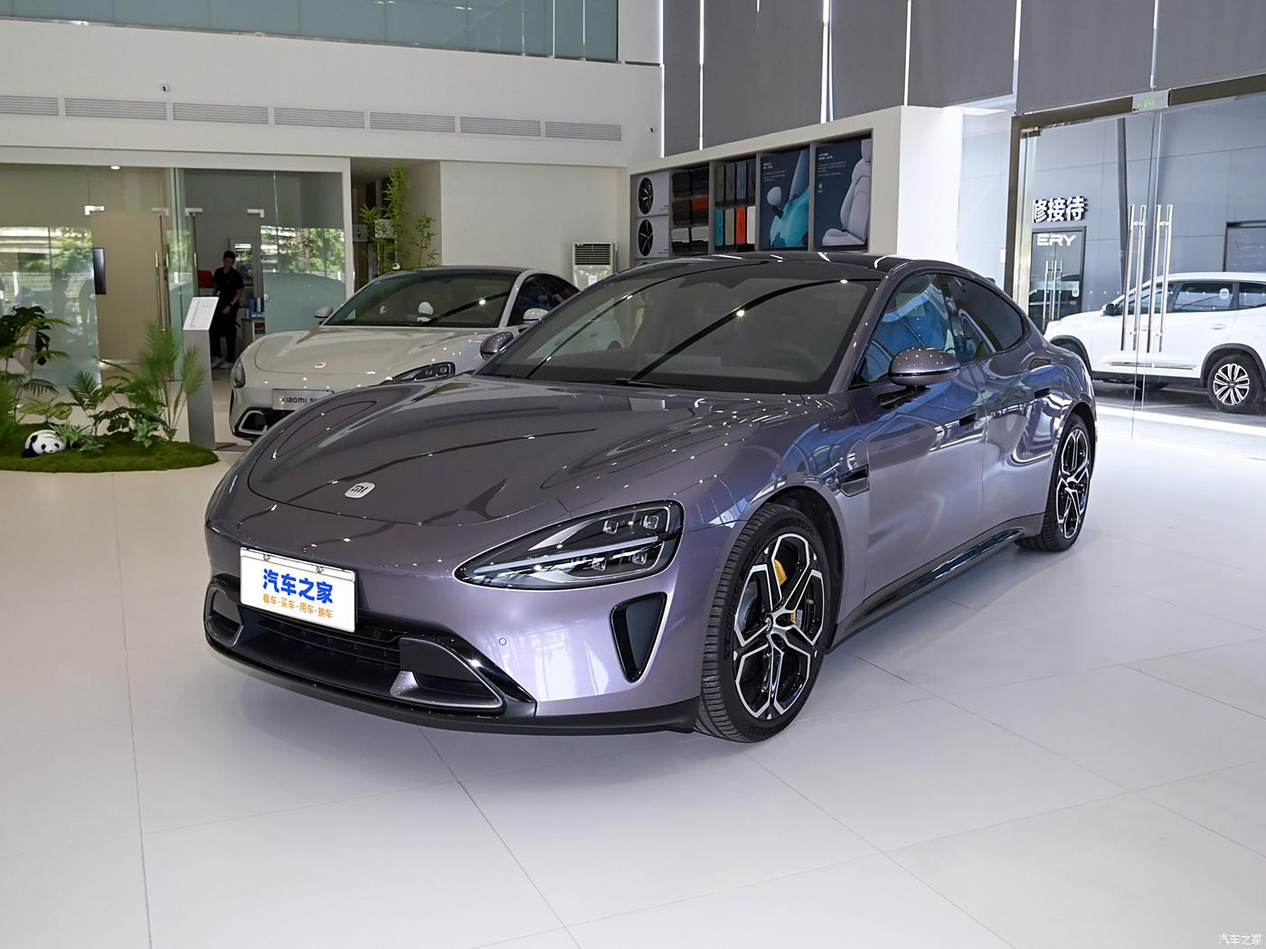XIAOMI: (344, 482, 375, 498), (313, 361, 326, 368)
